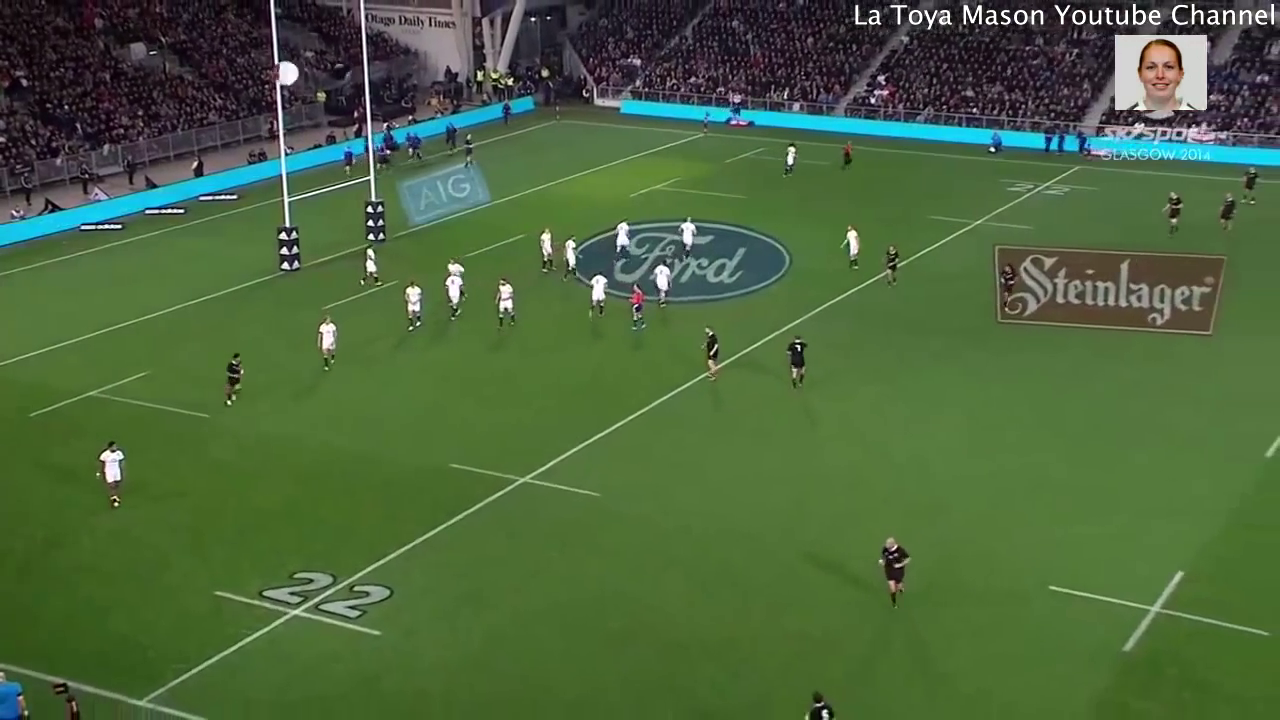10_metre: (1041, 556, 1280, 653)
player: (873, 530, 917, 611), (93, 436, 137, 513), (781, 330, 816, 400), (1153, 186, 1195, 244), (216, 351, 253, 412), (312, 309, 341, 380), (396, 276, 424, 340), (437, 271, 467, 326), (358, 241, 388, 292), (697, 325, 721, 386), (647, 258, 673, 312), (492, 276, 518, 327), (839, 220, 865, 270), (609, 217, 638, 261), (536, 219, 557, 279), (796, 688, 835, 720), (881, 243, 906, 290), (585, 271, 609, 318), (1215, 187, 1237, 236), (624, 280, 646, 329), (673, 211, 695, 257), (833, 136, 860, 172), (562, 231, 581, 281), (993, 257, 1013, 303), (780, 136, 801, 179), (1241, 164, 1261, 204), (441, 255, 469, 277)
post: (265, 40, 386, 276)
